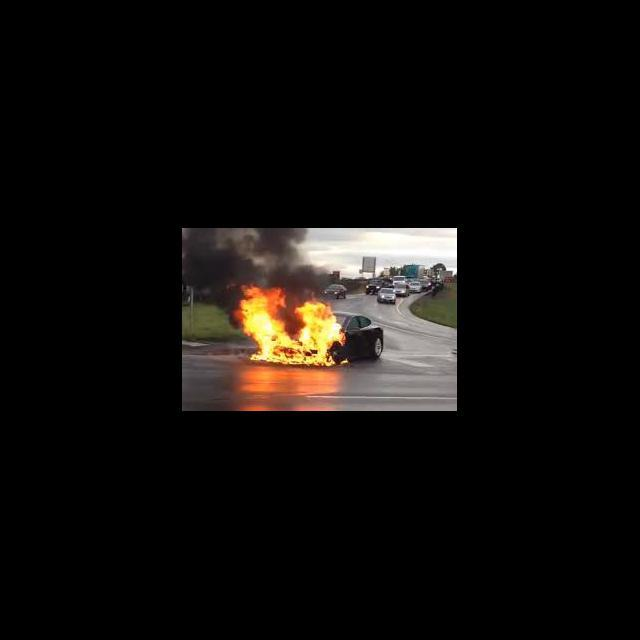Fire: (230, 284, 352, 368)
Smoke: (183, 229, 323, 284)
